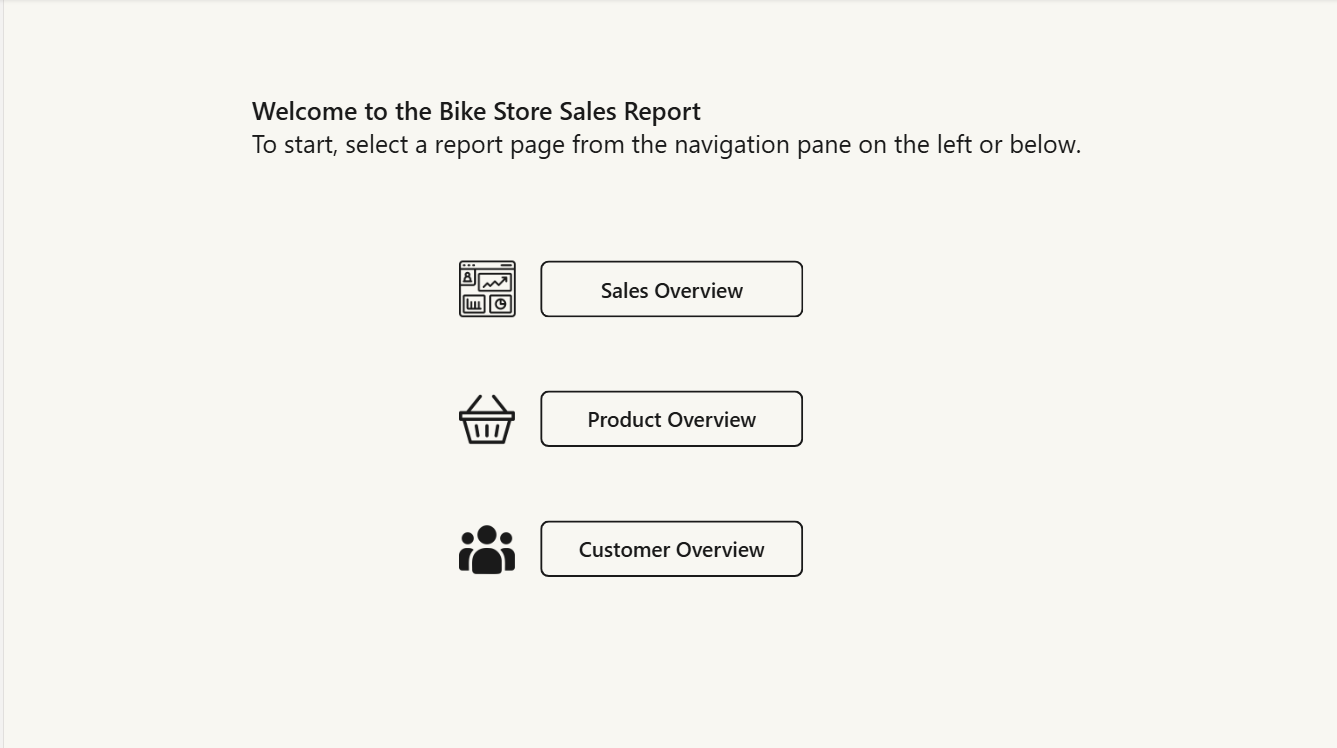

The page's visual inventory and layout, read from the dashboard file:
{"tool":"powerbi","page":{"name":"LP","canvas":[1280,720],"ordinal":0},"visuals":[{"type":"textbox","box":[232.8,86.9,816.8,80.8],"z":0},{"type":"actionButton","box":[513.9,376.2,252.1,54.3],"z":1000},{"type":"actionButton","box":[513.9,500.7,252.1,54.3],"z":2000},{"type":"image","box":[435.7,376.2,53.6,54.8],"z":3000},{"type":"image","box":[435.7,502.4,53.6,53.6],"z":4000},{"type":"actionButton","box":[514.3,251.2,252.4,54.8],"z":5000},{"type":"image","box":[435.7,251.2,54.8,54.8],"z":6000}]}

Visuals, with their boxes in screenshot pixels (x1, y1, x2, y2), scaled from the page's 1280x720 canvas onto the 1337x748 screenshot:
textbox: box(243, 90, 1096, 174)
actionButton: box(537, 391, 800, 447)
actionButton: box(537, 520, 800, 577)
image: box(455, 391, 511, 448)
image: box(455, 522, 511, 578)
actionButton: box(537, 261, 801, 318)
image: box(455, 261, 512, 318)
